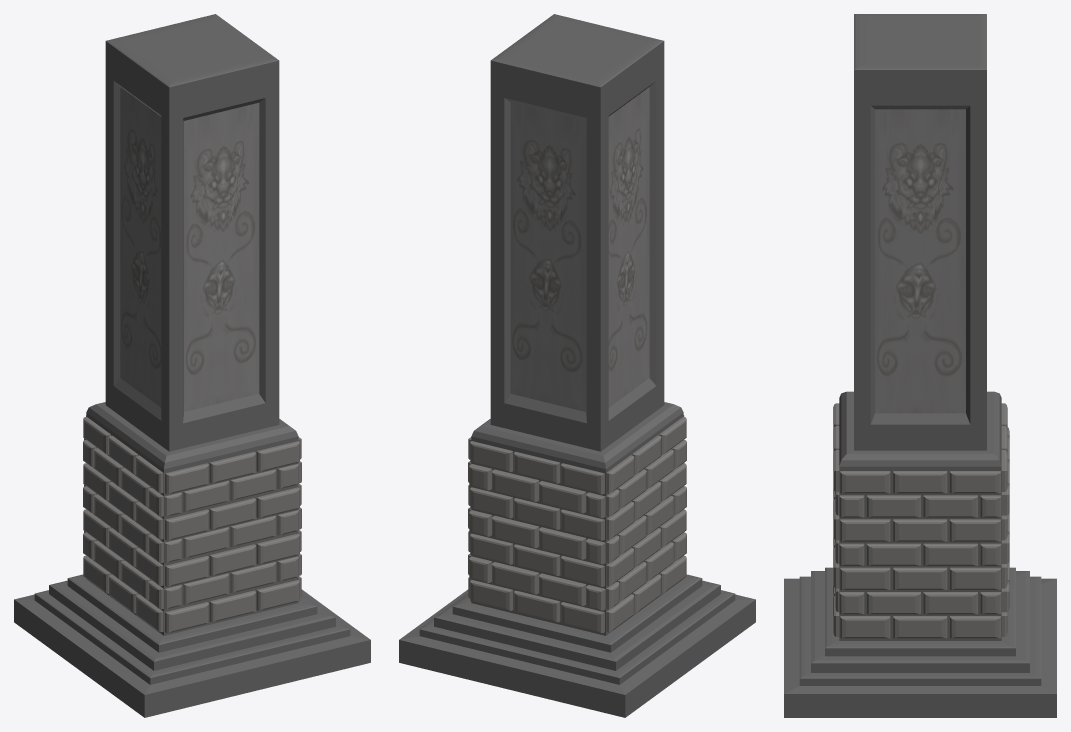
File: broken_FlaskSquare.fbx_floor3.fbx_piller_2.fbx
3 views of the same model, side by side, from view 1: azimuth 30°, elevation 25°; view 2: azimuth 150°, elevation 25°; view 3: azimuth 270°, elevation 25° (orthographic). The views are drawn at different scales.
Visible parts, largest first — view 1: Cube.006; view 2: Cube.006; view 3: Cube.006.
Boxes of the visible parts, box(x1,y1,x2,y2) form: Cube.006: box(14, 14, 370, 717); Cube.006: box(399, 14, 755, 717); Cube.006: box(784, 14, 1056, 717).
Bounding box in the file's own units: 76.57 × 192 × 76.57.
